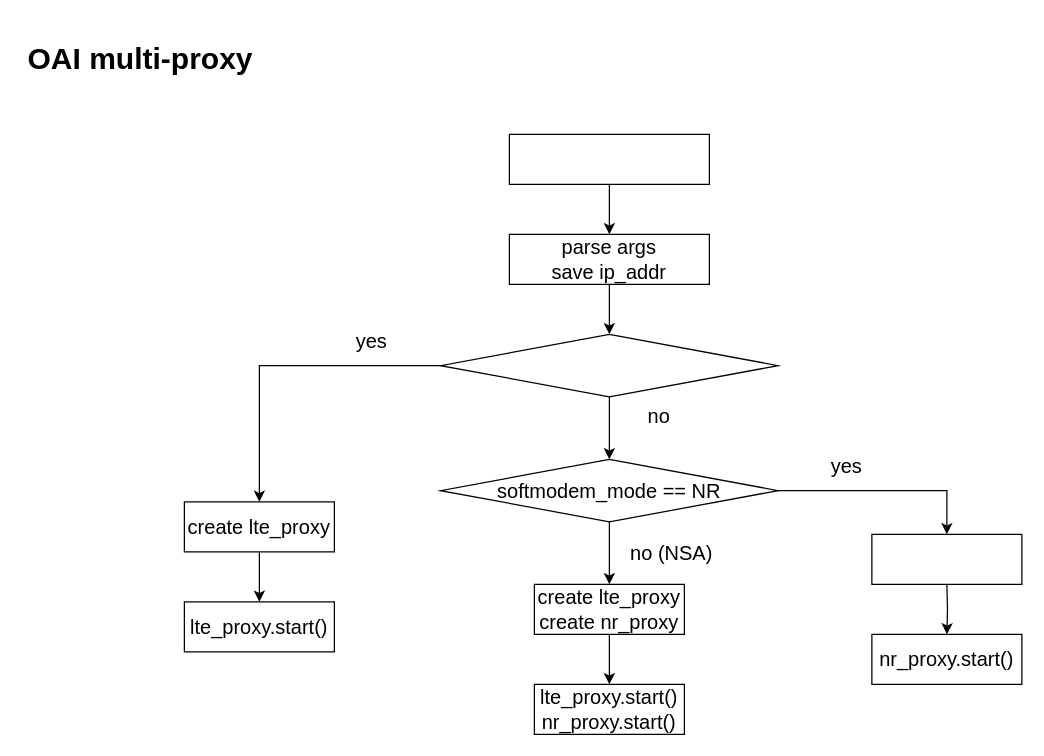
Some shapes in this 1044 by 756 pixel diagram are drawn without their labels. The shapes that lost their labels are listed below. From the top down, each one's box as (x1, y1, x2, y2) in pixels, then its label:
(508, 133, 709, 184): oai multi-proxy main
(439, 333, 778, 397): softmodem_mode == LTE
(871, 533, 1022, 584): create nr_proxy
